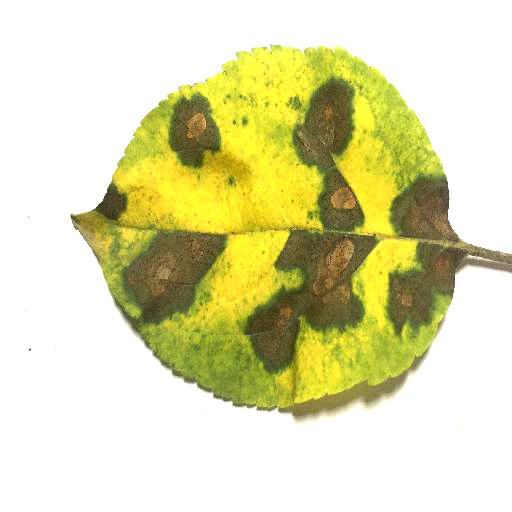Brown_Spot: (231, 228, 381, 380), (273, 74, 389, 231), (117, 227, 231, 326), (387, 234, 465, 340), (153, 88, 240, 164), (384, 174, 462, 237)
